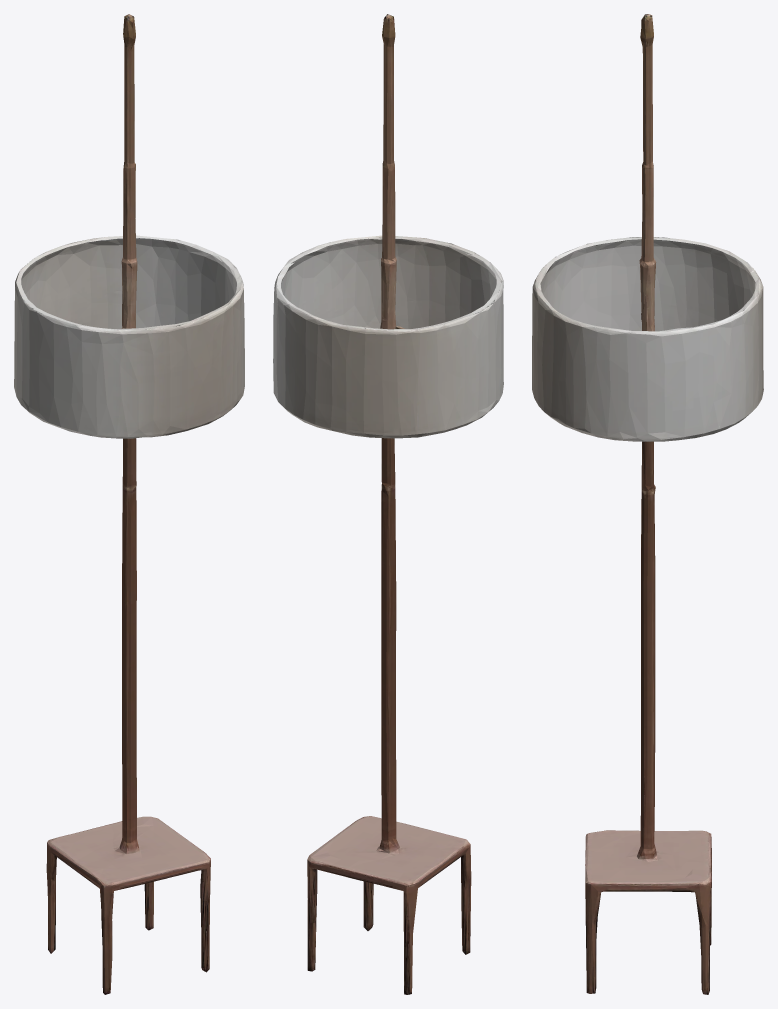
Rendered from ast_655a4e7f4daf.glb.
3 views of the same model, side by side, from view 1: azimuth 30°, elevation 25°; view 2: azimuth 150°, elevation 25°; view 3: azimuth 270°, elevation 25° (orthographic).
Visible parts, largest first — view 1: geometry_0; view 2: geometry_0; view 3: geometry_0.
Part boxes in pixels (left/top/right/bottom): geometry_0: left=14, top=14, right=244, bottom=994; geometry_0: left=273, top=14, right=503, bottom=994; geometry_0: left=532, top=14, right=763, bottom=994.
Bounding box in the file's own units: 0.2182 × 0.9896 × 0.2173.
1 material, 1 textured.
